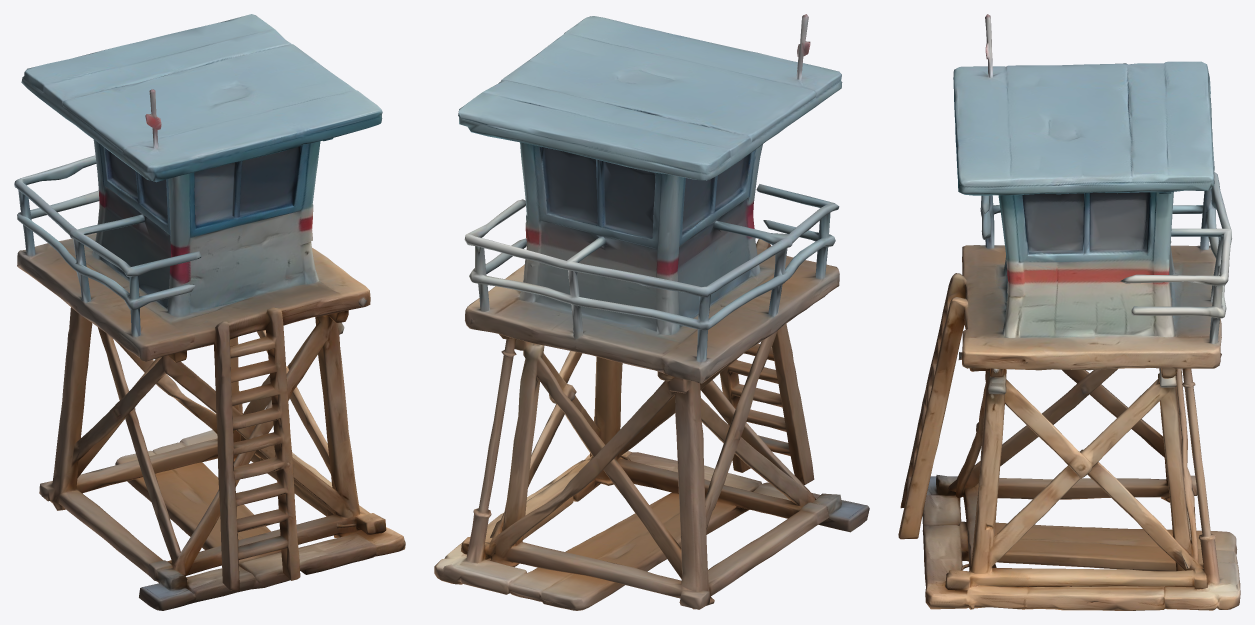
The model's file is lifeguard-tower.glb.
The picture shows the model from 3 angles, left to right: view 1: azimuth 30°, elevation 25°; view 2: azimuth 150°, elevation 25°; view 3: azimuth 270°, elevation 25°; orthographic projection. The views are drawn at different scales.
Parts seen in each view (by area): view 1: tripo_node_1d9a7b03-f7e7-4ef6-958d-2f076a5f8f61; view 2: tripo_node_1d9a7b03-f7e7-4ef6-958d-2f076a5f8f61; view 3: tripo_node_1d9a7b03-f7e7-4ef6-958d-2f076a5f8f61.
Boxes of the visible parts, <box> form: tripo_node_1d9a7b03-f7e7-4ef6-958d-2f076a5f8f61: <box>14,14,405,610</box>; tripo_node_1d9a7b03-f7e7-4ef6-958d-2f076a5f8f61: <box>434,14,869,610</box>; tripo_node_1d9a7b03-f7e7-4ef6-958d-2f076a5f8f61: <box>898,14,1240,610</box>.
Bounding box in the file's own units: 0.5518 × 1 × 0.6329.
1 material, 1 textured.
